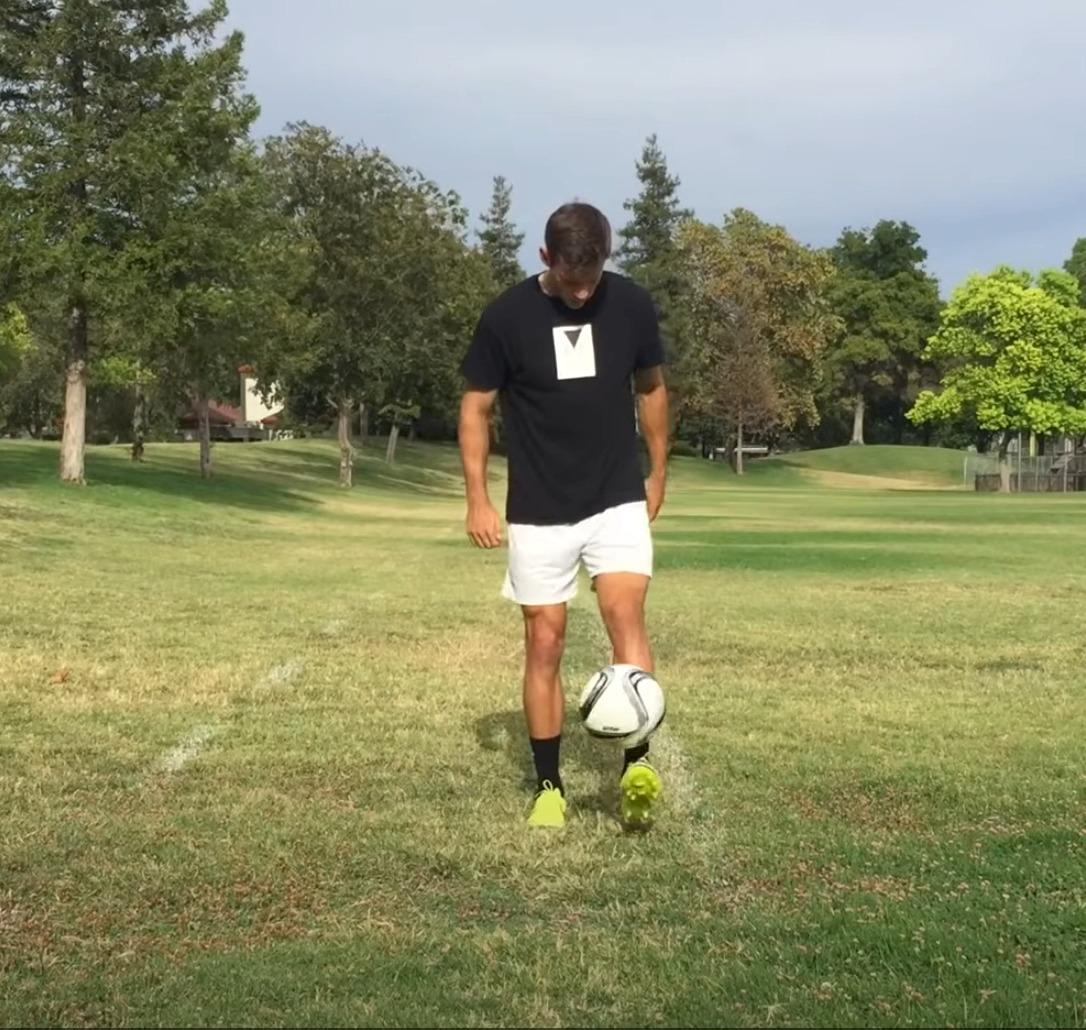ball: (581, 665, 663, 740)
foot: (613, 752, 661, 826), (527, 776, 570, 838)
person: (462, 205, 672, 816)
